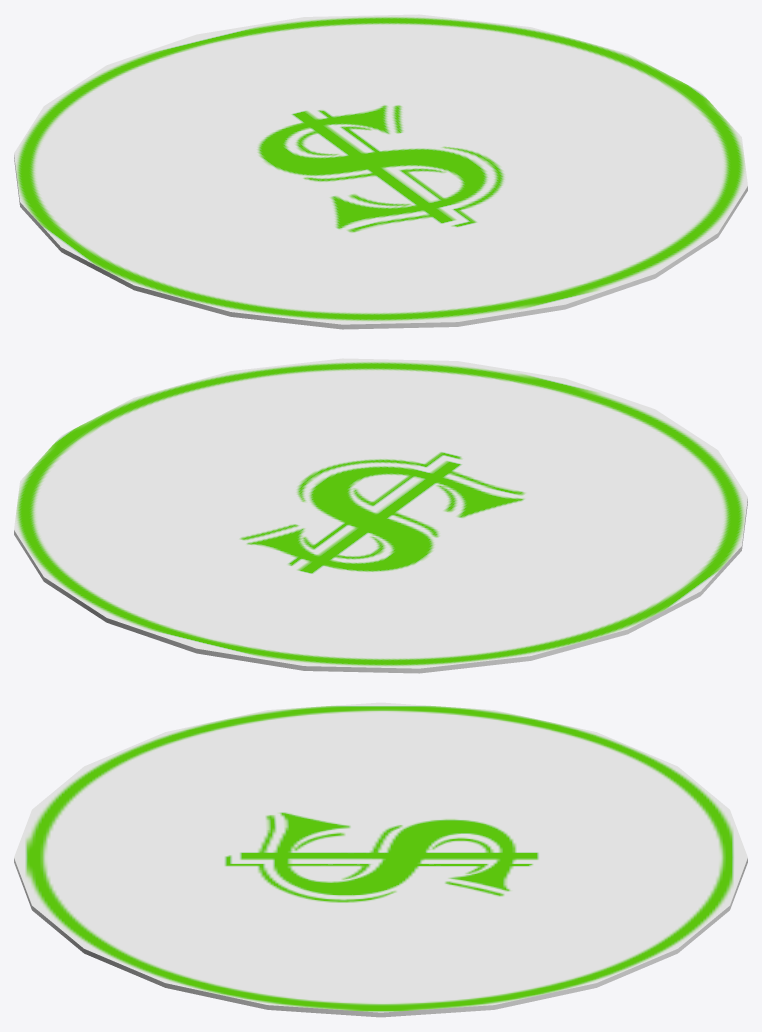
The model's file is Sign.dae.
The picture shows the model from 3 angles, top to bottom: view 1: azimuth 30°, elevation 25°; view 2: azimuth 150°, elevation 25°; view 3: azimuth 270°, elevation 25°; orthographic projection.
Visible parts, largest first — view 1: moneySign; view 2: moneySign; view 3: moneySign.
Part boxes in pixels (x1,y1,x2,y2): moneySign: (14,14,747,329); moneySign: (14,358,747,673); moneySign: (14,702,747,1017).
Size of the model in its own units: 26.59 by 0.1926 by 26.59.
